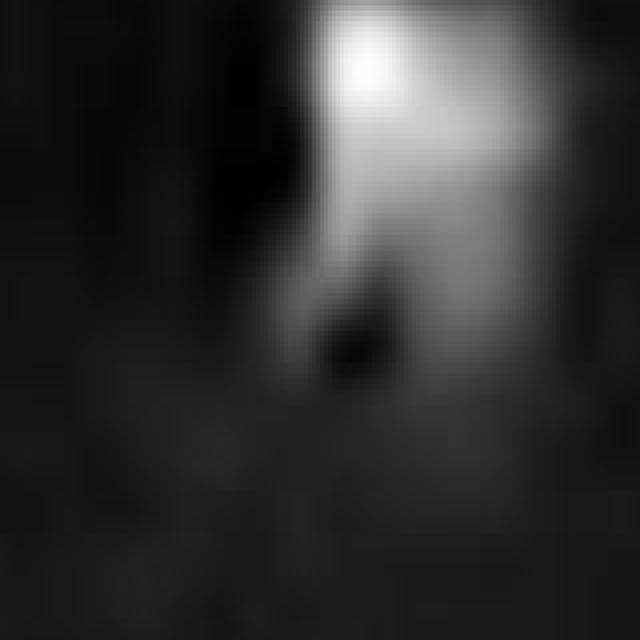person: (293, 1, 589, 486)
